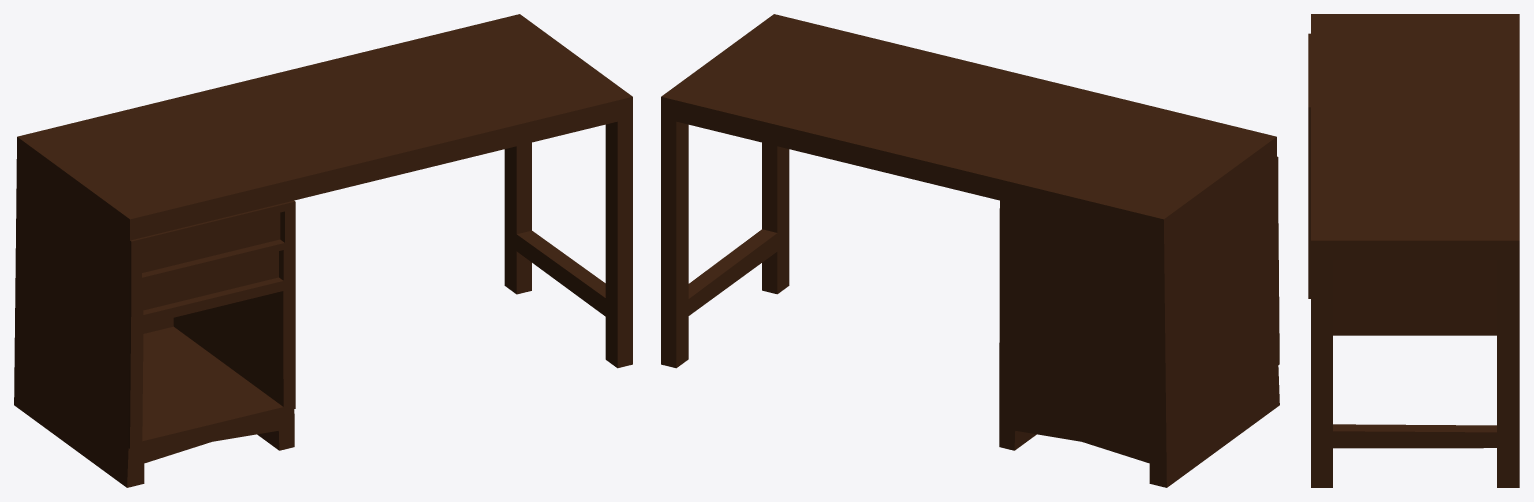
The model's file is desk.fbx.
3 renders of one model, left to right at view 1: azimuth 30°, elevation 25°; view 2: azimuth 150°, elevation 25°; view 3: azimuth 270°, elevation 25°, orthographic. The views are drawn at different scales.
Parts seen in each view (by area): view 1: Plane; view 2: Plane; view 3: Plane.
Part boxes in pixels (x1,y1,x2,y2): Plane: (14,14,632,487); Plane: (661,14,1279,487); Plane: (1308,14,1519,487).
Bounding box in the file's own units: 339 × 172 × 133.
